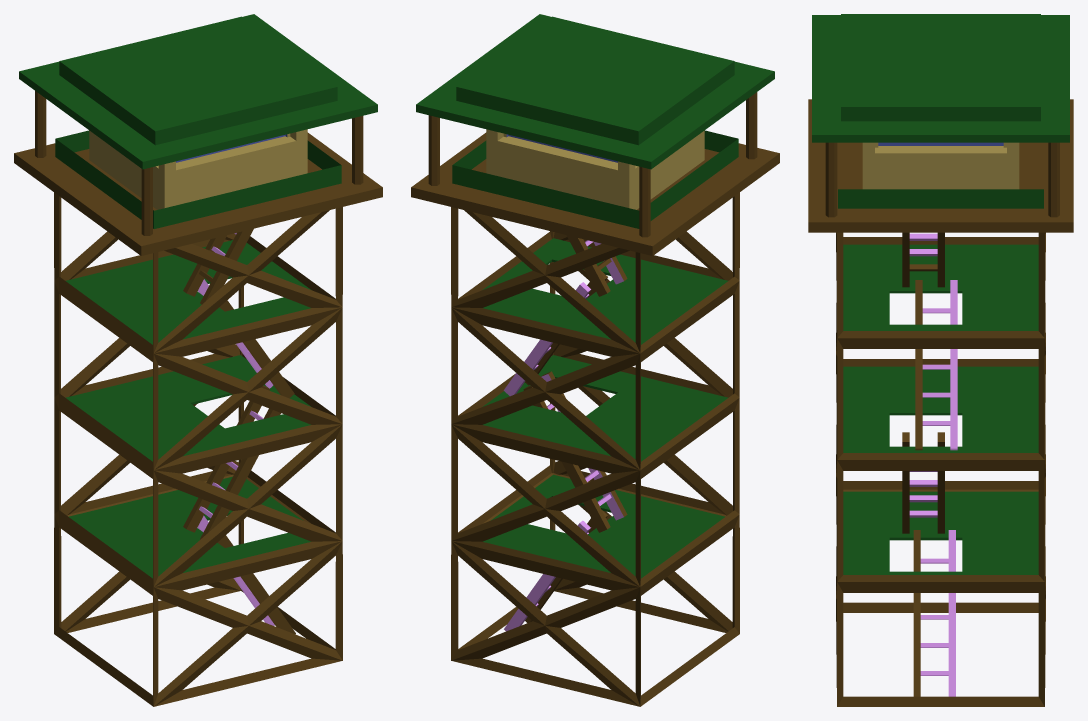
File: Watchower-1.fbx
3 views of the same model, side by side, from view 1: azimuth 30°, elevation 25°; view 2: azimuth 150°, elevation 25°; view 3: azimuth 270°, elevation 25° (orthographic). The views are drawn at different scales.
Visible parts, largest first — view 1: Watchtower-1; view 2: Watchtower-1; view 3: Watchtower-1.
Boxes of the visible parts, left/top/right/bottom form: Watchtower-1: left=14, top=14, right=382, bottom=706; Watchtower-1: left=411, top=14, right=779, bottom=706; Watchtower-1: left=808, top=14, right=1073, bottom=706.
Size of the model in its own units: 9.13 by 20.81 by 8.32.
